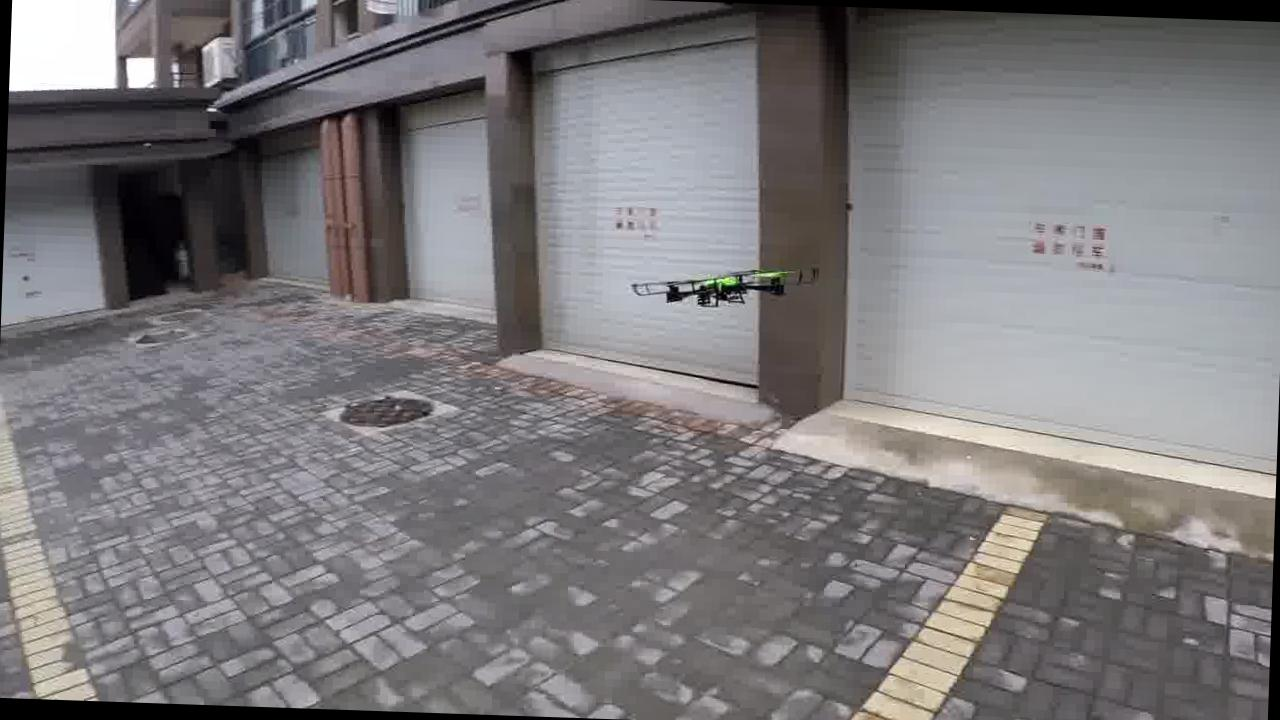drone: (616, 234, 818, 329)
